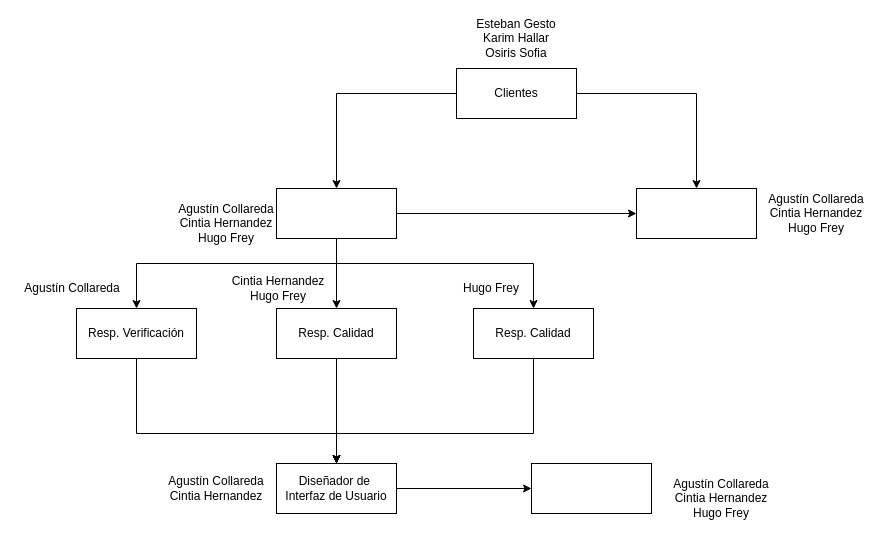
The diagram is 893 pixels wide and 537 high, and some of its shapes have lost their labels. The centre of each missing label's shape, as x and y in pixels:
Analistas / Implementadores: the point at 591,488
Documentador / Analista: the point at 696,213
Grupo T-Code (Administración): the point at 336,213
